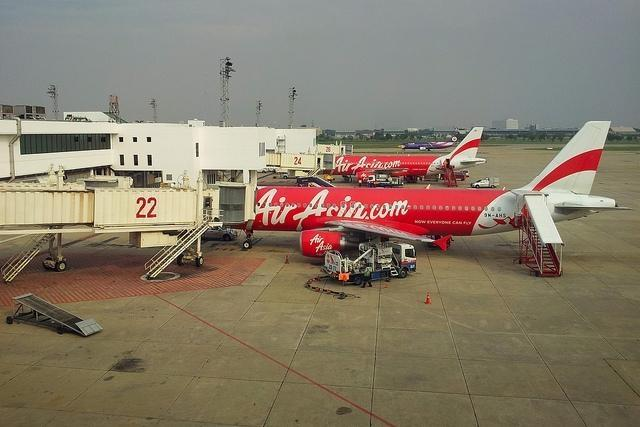truck: (322, 241, 416, 286)
